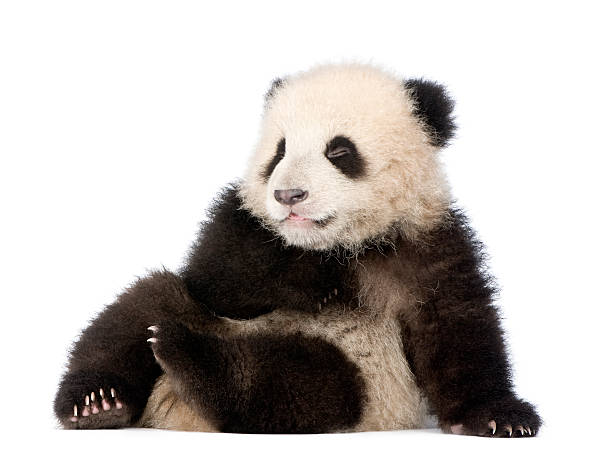panda: (224, 53, 488, 302)
